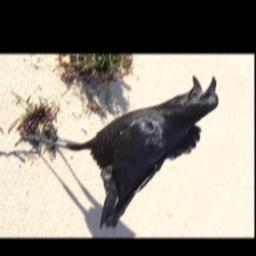Crow: (12, 74, 230, 231)
